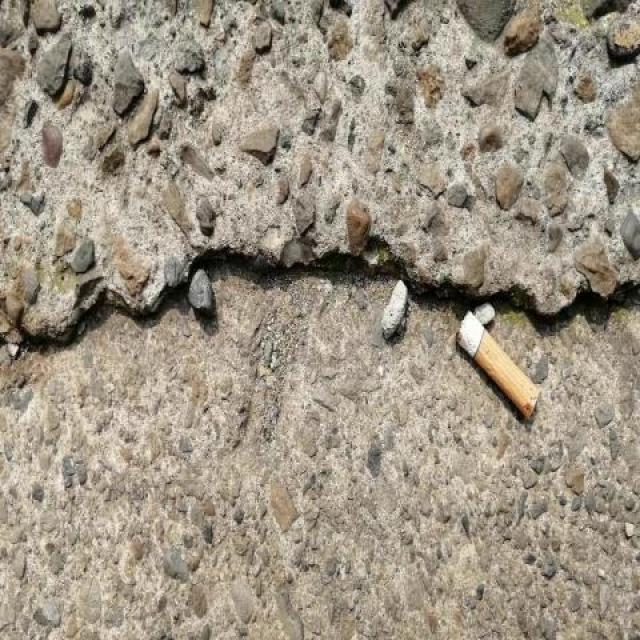non-organic waste: (451, 308, 542, 423)
